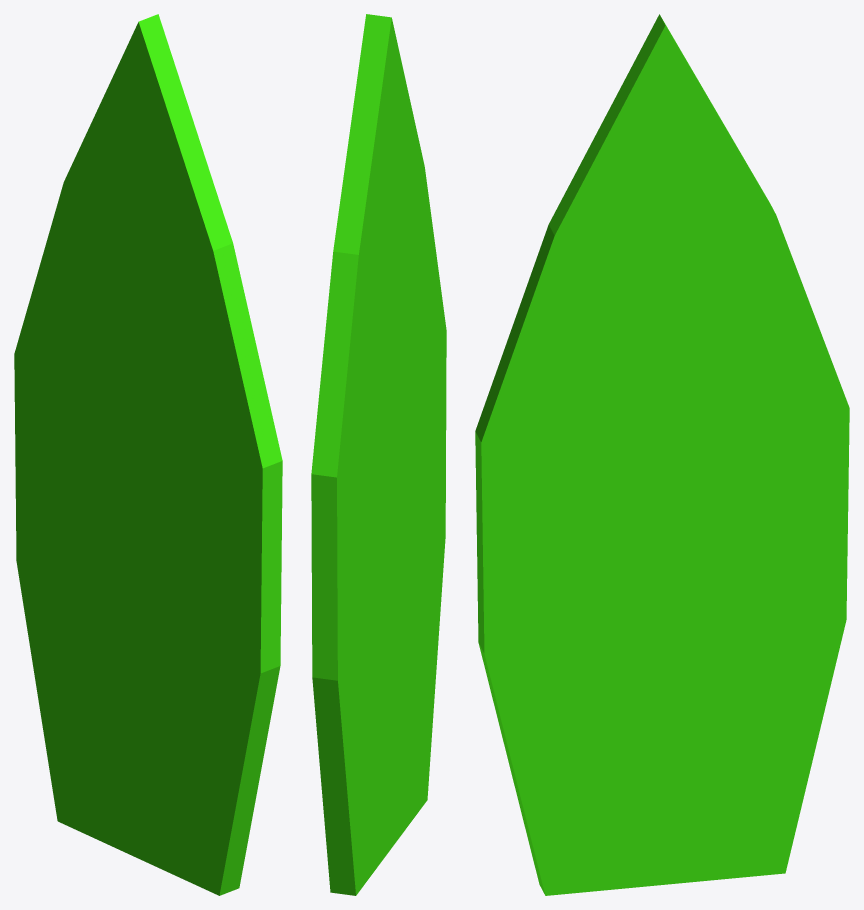
Rendered from Rigged Grass Export 102.fbx.
The picture shows the model from 3 angles, left to right: view 1: azimuth 30°, elevation 25°; view 2: azimuth 150°, elevation 25°; view 3: azimuth 270°, elevation 25°; orthographic projection. The views are drawn at different scales.
Visible parts, largest first — view 1: Grass 1 Right 7; view 2: Grass 1 Right 7; view 3: Grass 1 Right 7.
Boxes of the visible parts, x1,y1,x2,y2 form: Grass 1 Right 7: [14, 14, 282, 895]; Grass 1 Right 7: [311, 14, 446, 895]; Grass 1 Right 7: [475, 14, 849, 895].
Size of the model in its own units: 40.65 by 354 by 140.
